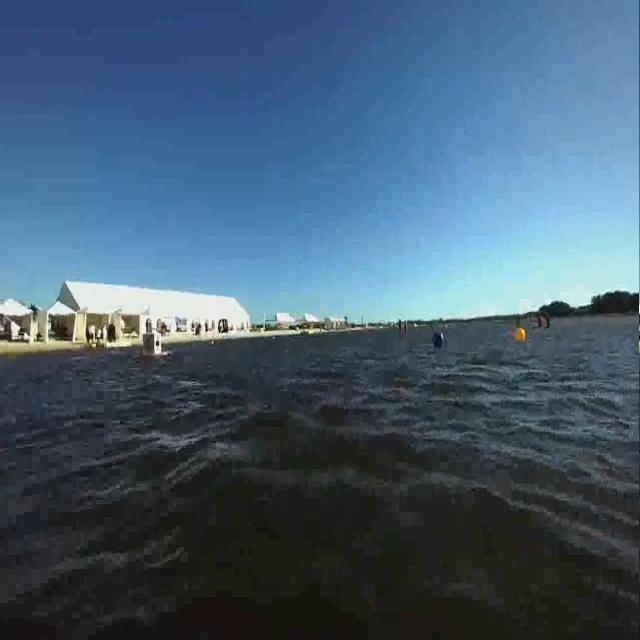blue-buoy: (431, 331, 444, 350)
yellow-buoy: (515, 326, 527, 345)
